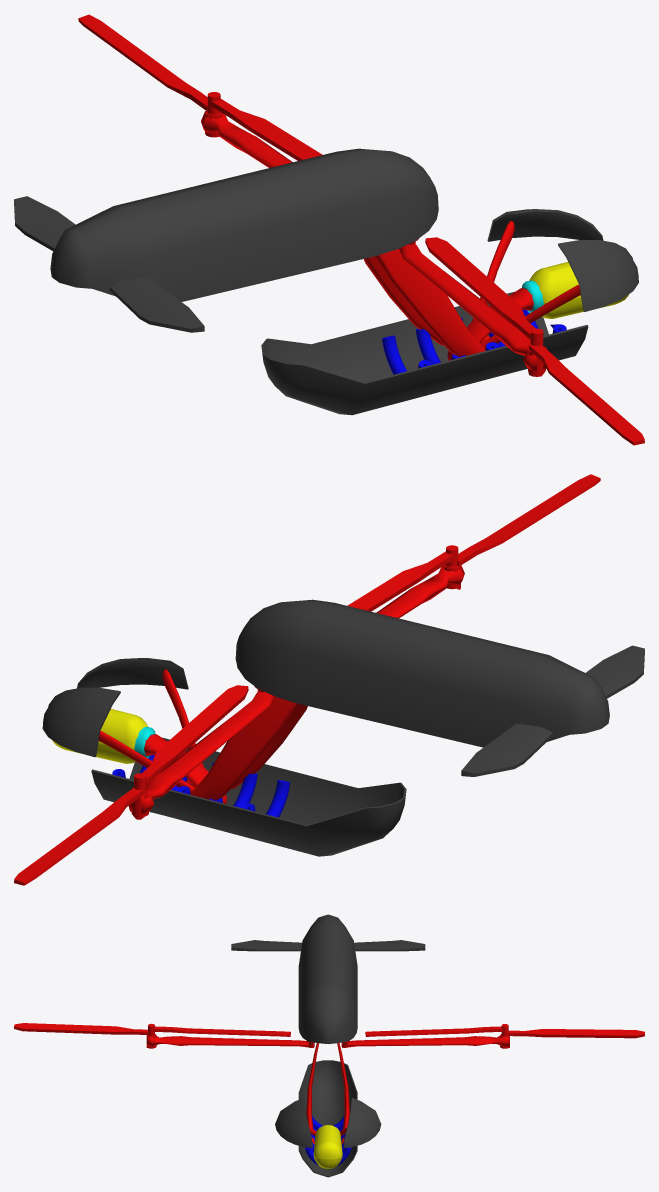
The model's file is EnemyDrone_Deathl.fbx.
The picture shows the model from 3 angles, top to bottom: view 1: azimuth 30°, elevation 25°; view 2: azimuth 150°, elevation 25°; view 3: azimuth 270°, elevation 25°; orthographic projection. The views are drawn at different scales.
Visible parts, largest first — view 1: polySurface155, polySurface154, polySurface63, polySurface68, polySurface62, polySurface77, polySurface57, polySurface58, polySurface78, polySurface59, polySurface158, polySurface65 (+2 smaller); view 2: polySurface155, polySurface154, polySurface62, polySurface67, polySurface158, polySurface63, polySurface59, polySurface78, polySurface58, polySurface57, polySurface77, polySurface65 (+2 smaller); view 3: polySurface155, polySurface154, polySurface158, polySurface77, polySurface62, polySurface63, polySurface78, polySurface58, polySurface65, polySurface59, polySurface57, polySurface67 (+1 smaller).
Boxes of the visible parts, <box> form: polySurface155: <box>14,148,438,332</box>; polySurface154: <box>261,291,588,415</box>; polySurface63: <box>481,240,638,349</box>; polySurface68: <box>375,245,501,371</box>; polySurface62: <box>471,209,603,321</box>; polySurface77: <box>399,243,546,371</box>; polySurface57: <box>425,237,535,339</box>; polySurface58: <box>529,344,644,445</box>; polySurface78: <box>78,14,207,111</box>; polySurface59: <box>211,99,322,160</box>; polySurface158: <box>201,111,292,167</box>; polySurface65: <box>529,262,580,303</box>; polySurface155: <box>235,599,644,776</box>; polySurface154: <box>91,737,406,856</box>; polySurface62: <box>42,687,194,793</box>; polySurface67: <box>174,693,296,814</box>; polySurface158: <box>128,686,273,814</box>; polySurface63: <box>77,658,203,766</box>; polySurface59: <box>142,685,248,783</box>; polySurface78: <box>14,788,143,885</box>; polySurface58: <box>457,474,600,566</box>; polySurface57: <box>347,551,454,611</box>; polySurface77: <box>376,565,464,618</box>; polySurface65: <box>98,709,148,748</box>; polySurface155: <box>231,914,425,1043</box>; polySurface154: <box>298,1060,357,1177</box>; polySurface158: <box>341,1036,509,1047</box>; polySurface77: <box>146,1035,313,1047</box>; polySurface62: <box>339,1098,381,1147</box>; polySurface63: <box>275,1098,316,1147</box>; polySurface78: <box>506,1029,644,1038</box>; polySurface58: <box>14,1023,148,1034</box>; polySurface65: <box>313,1125,342,1159</box>; polySurface59: <box>365,1026,503,1036</box>; polySurface57: <box>153,1026,290,1036</box>; polySurface67: <box>337,1043,349,1144</box>.
Bounding box in the file's own units: 170 × 73.37 × 297.
